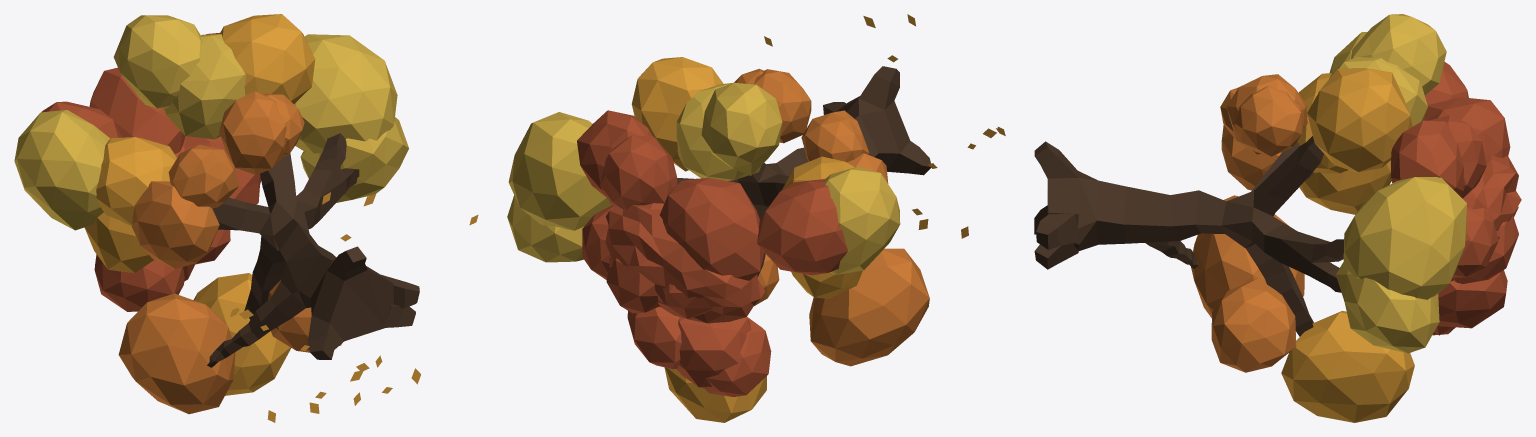
File: TreeOakAutumnB2.fbx
The picture shows the model from 3 angles, left to right: view 1: azimuth 30°, elevation 25°; view 2: azimuth 150°, elevation 25°; view 3: azimuth 270°, elevation 25°; orthographic projection. The views are drawn at different scales.
Visible parts, largest first — view 1: M_Tree_Leaf_Gold, M_Tree_Leaf_Orange, M_Tree_Bark.001, M_Tree_Leaf_Amber, M_Tree_Leaf_Rust; view 2: M_Tree_Leaf_Rust, M_Tree_Leaf_Gold, M_Tree_Leaf_Orange, M_Tree_Leaf_Amber, M_Tree_Bark.001; view 3: M_Tree_Leaf_Gold, M_Tree_Bark.001, M_Tree_Leaf_Amber, M_Tree_Leaf_Rust, M_Tree_Leaf_Orange.
Part boxes in pixels (left/top/right/bottom): M_Tree_Leaf_Gold: left=14, top=15, right=408, bottom=230; M_Tree_Leaf_Orange: left=118, top=91, right=341, bottom=414; M_Tree_Bark.001: left=207, top=133, right=419, bottom=367; M_Tree_Leaf_Amber: left=84, top=14, right=478, bottom=422; M_Tree_Leaf_Rust: left=41, top=33, right=261, bottom=311; M_Tree_Leaf_Rust: left=577, top=110, right=847, bottom=396; M_Tree_Leaf_Gold: left=507, top=82, right=900, bottom=274; M_Tree_Leaf_Orange: left=734, top=68, right=929, bottom=366; M_Tree_Leaf_Amber: left=631, top=14, right=1005, bottom=422; M_Tree_Bark.001: left=677, top=66, right=930, bottom=276; M_Tree_Leaf_Gold: left=1329, top=14, right=1466, bottom=353; M_Tree_Bark.001: left=1034, top=136, right=1343, bottom=336; M_Tree_Leaf_Amber: left=1281, top=68, right=1414, bottom=422; M_Tree_Leaf_Rust: left=1391, top=61, right=1521, bottom=335; M_Tree_Leaf_Orange: left=1191, top=74, right=1307, bottom=372.
Size of the model in its own units: 2781 by 2542 by 2967.
